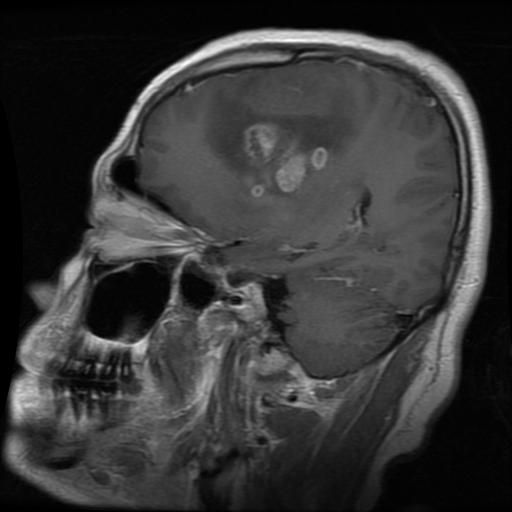Gliomia_tumour: (206, 94, 341, 195)
